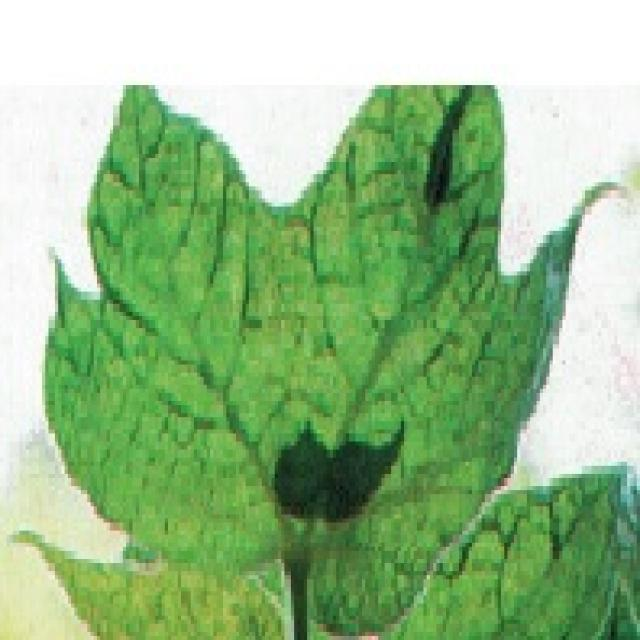Leaf Curl Virus: (99, 205, 460, 586)
